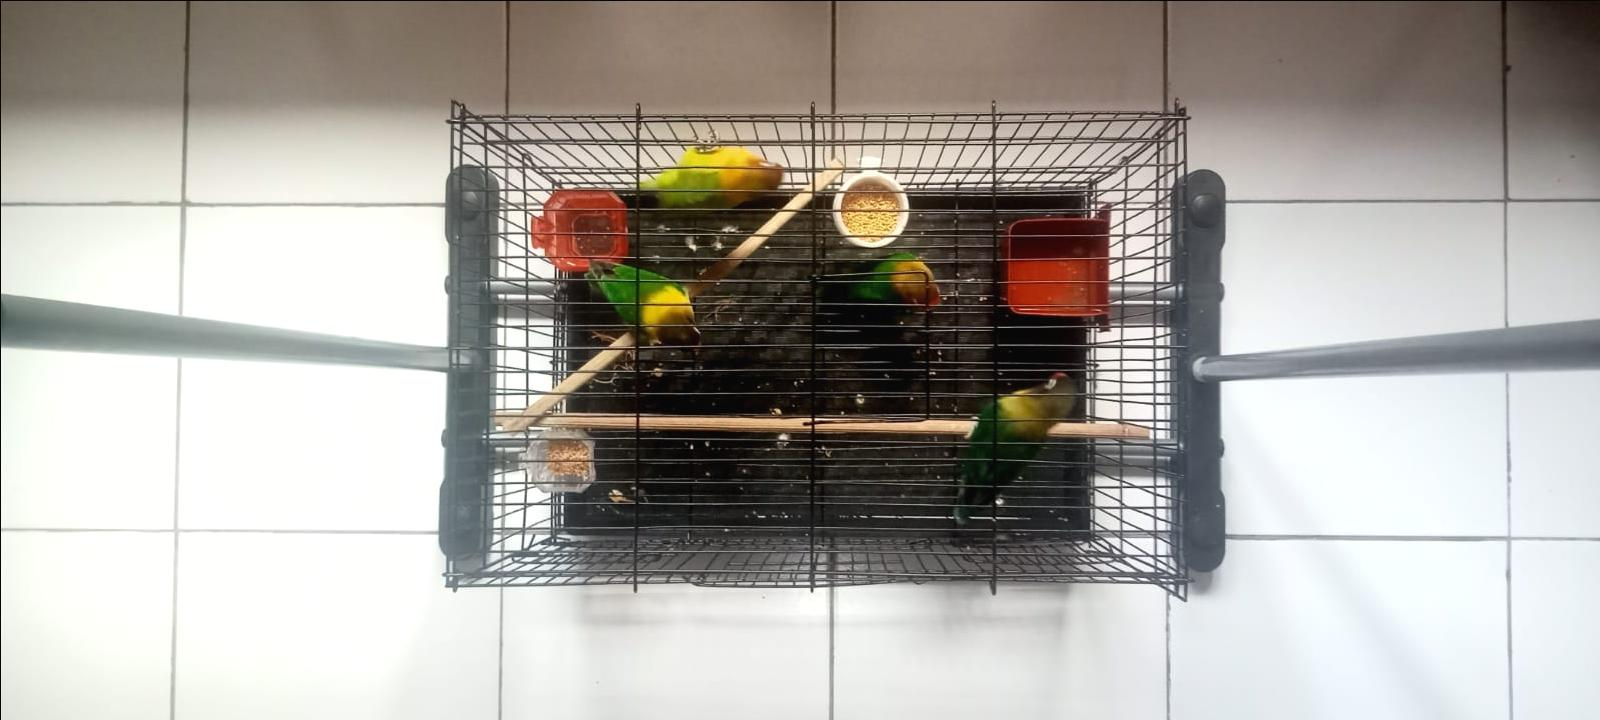LoveBird: (961, 370, 1076, 511), (584, 257, 699, 352), (639, 147, 782, 209), (839, 251, 938, 310)
